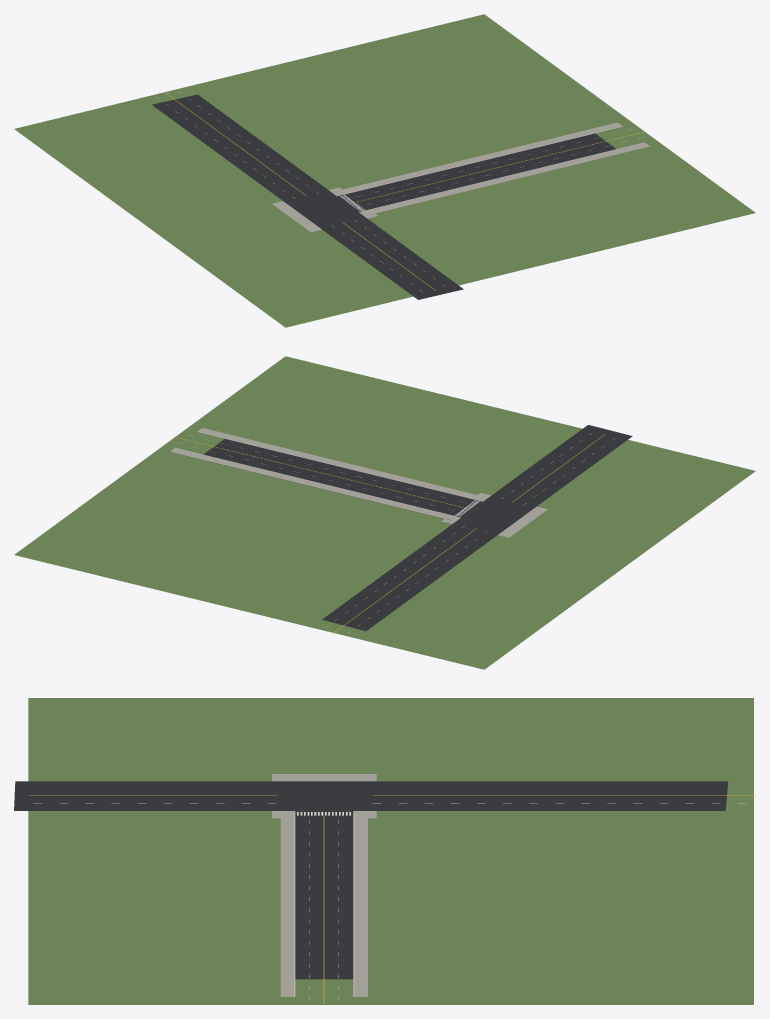
The model's file is Ground_0_5.fbx.
3 renders of one model, top to bottom at view 1: azimuth 30°, elevation 25°; view 2: azimuth 150°, elevation 25°; view 3: azimuth 270°, elevation 25°, orthographic. The views are drawn at different scales.
Parts seen in each view (by area): view 1: Ground_0_5; view 2: Ground_0_5; view 3: Ground_0_5.
Boxes of the visible parts, x1,y1,x2,y2 form: Ground_0_5: (14,14,755,327); Ground_0_5: (14,356,755,669); Ground_0_5: (14,698,755,1004).
Bounding box in the file's own units: 250 × 0.14 × 256.
